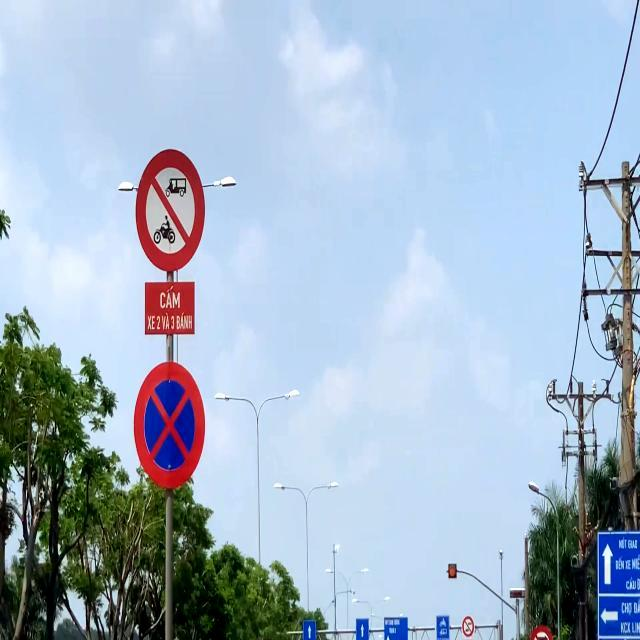Cam dung xe va do xe: (133, 362, 206, 489)
